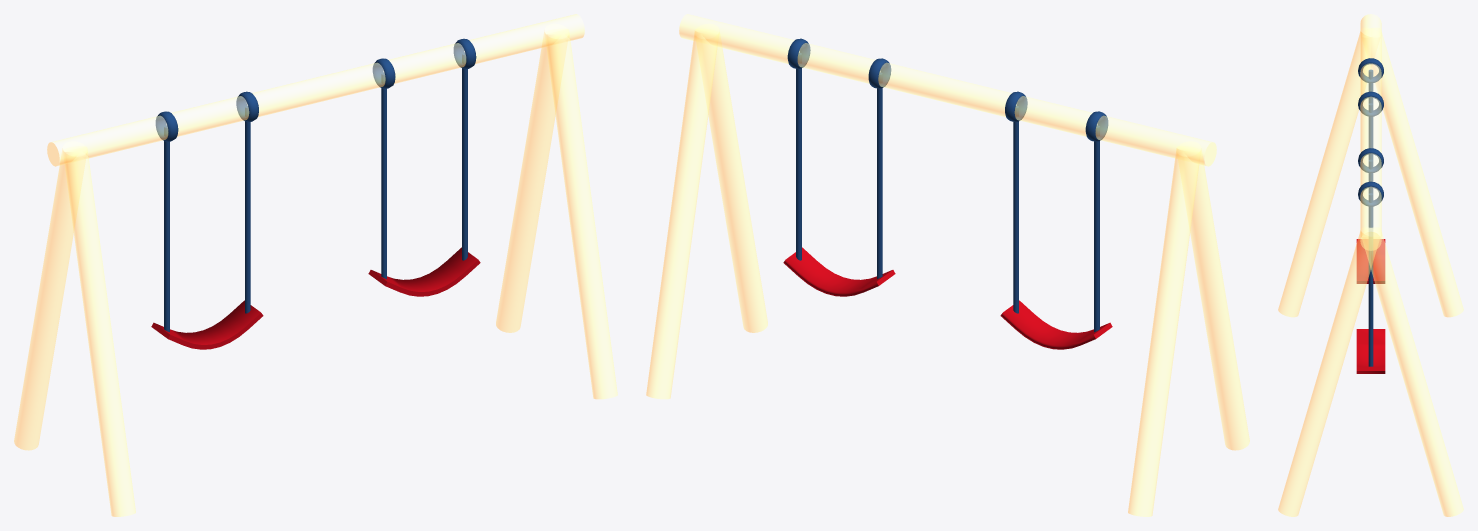
File: Swings.glb
3 renders of one model, left to right at view 1: azimuth 30°, elevation 25°; view 2: azimuth 150°, elevation 25°; view 3: azimuth 270°, elevation 25°, orthographic. The views are drawn at different scales.
Visible parts, largest first — view 1: LeftTwo (×2), LeftOne (×2), Top, Curved (×2), RopeLeft (×2), RopeRight (×2); view 2: LeftOne (×2), LeftTwo (×2), Top, Curved (×2), RopeLeft (×2), RopeRight (×2); view 3: LeftTwo (×2), LeftOne (×2), Top, Curved (×2), Rope (×4), RopeLeft (×2).
Part boxes in pixels (x1,y1,x2,y2): LeftTwo (×2): [64, 29, 617, 516]; LeftOne (×2): [14, 24, 567, 450]; Top: [47, 14, 584, 166]; Curved (×2): [151, 247, 480, 349]; RopeLeft (×2): [245, 52, 467, 313]; RopeRight (×2): [164, 72, 386, 332]; LeftOne (×2): [646, 29, 1199, 516]; LeftTwo (×2): [696, 24, 1249, 450]; Top: [679, 14, 1216, 166]; Curved (×2): [783, 247, 1112, 349]; RopeLeft (×2): [796, 52, 1018, 313]; RopeRight (×2): [877, 72, 1099, 332]; LeftTwo (×2): [1278, 28, 1376, 516]; LeftOne (×2): [1365, 28, 1463, 516]; Top: [1360, 14, 1381, 250]; Curved (×2): [1356, 239, 1385, 373]; Rope (×4): [1358, 58, 1383, 206]; RopeLeft (×2): [1368, 103, 1373, 366].
Size of the model in its own units: 3.63 by 2.28 by 1.31.
